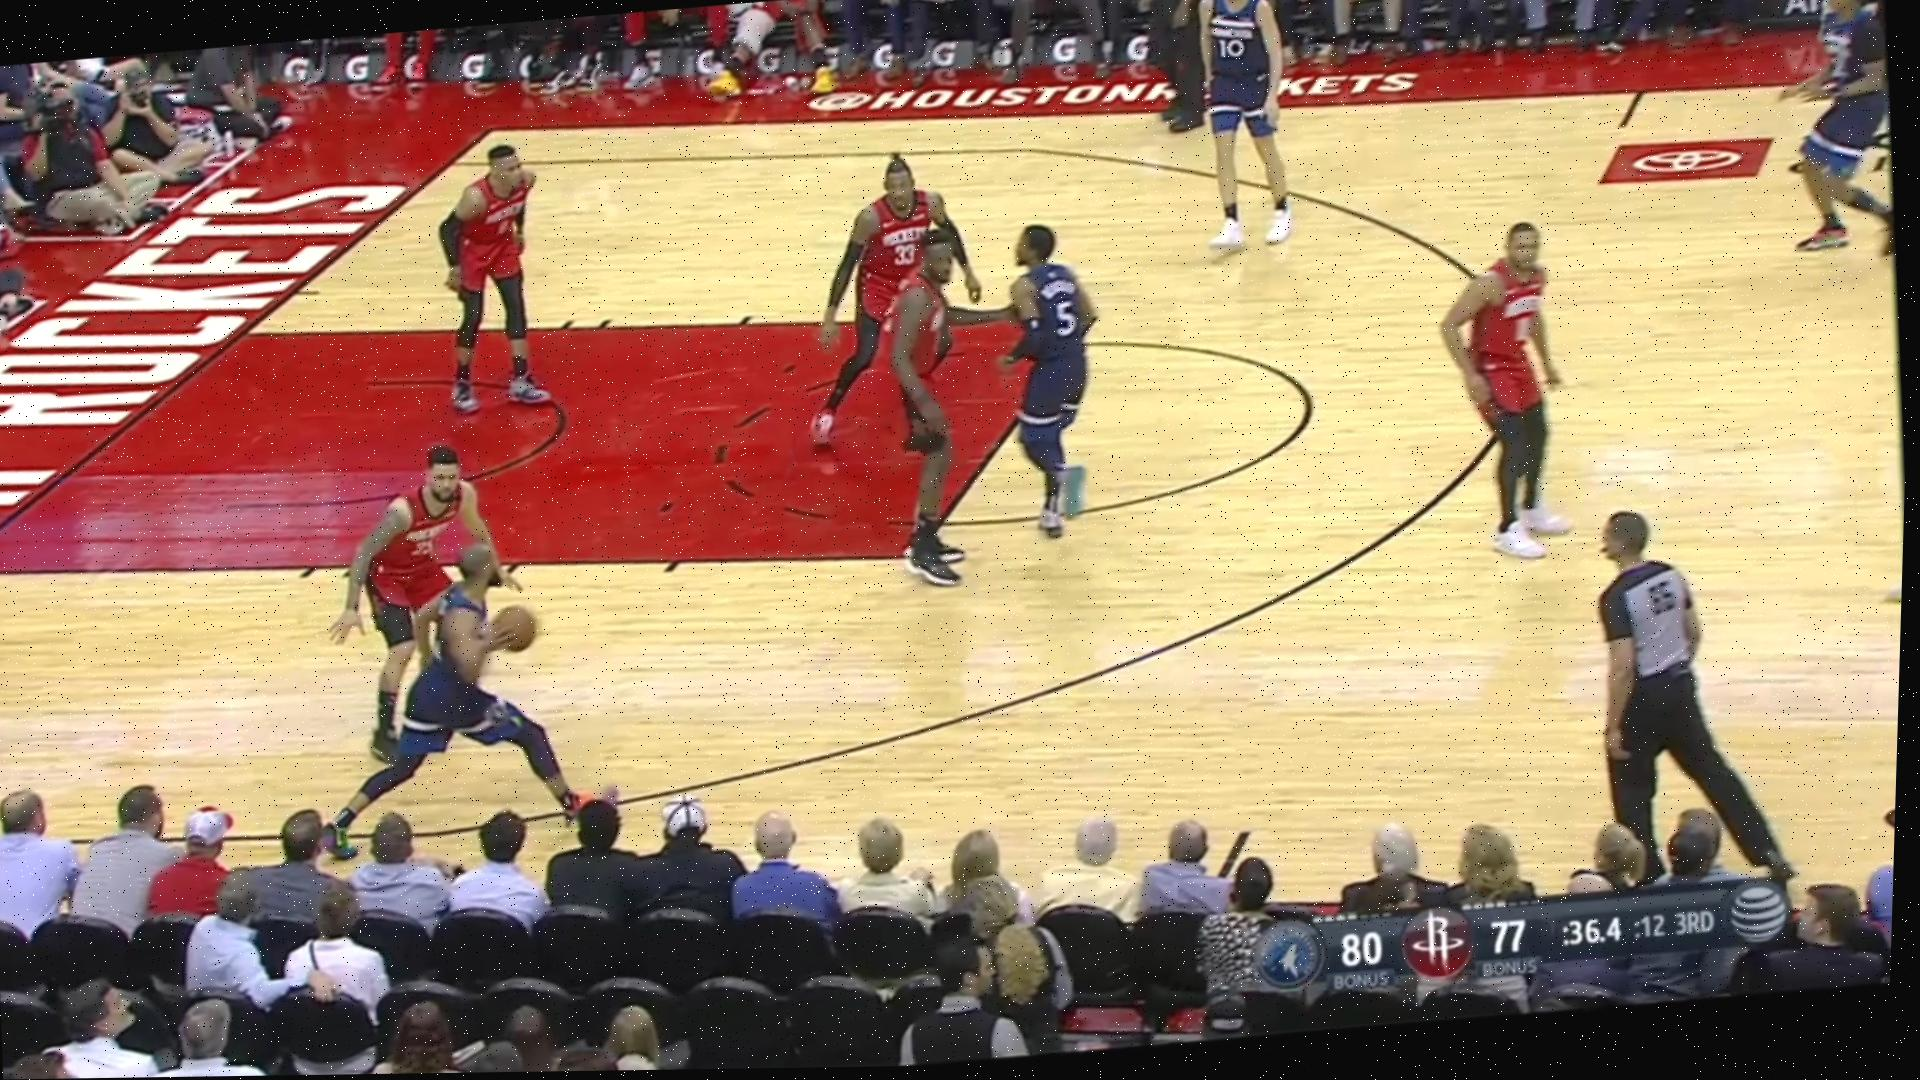no_foul: (309, 409, 570, 785)
